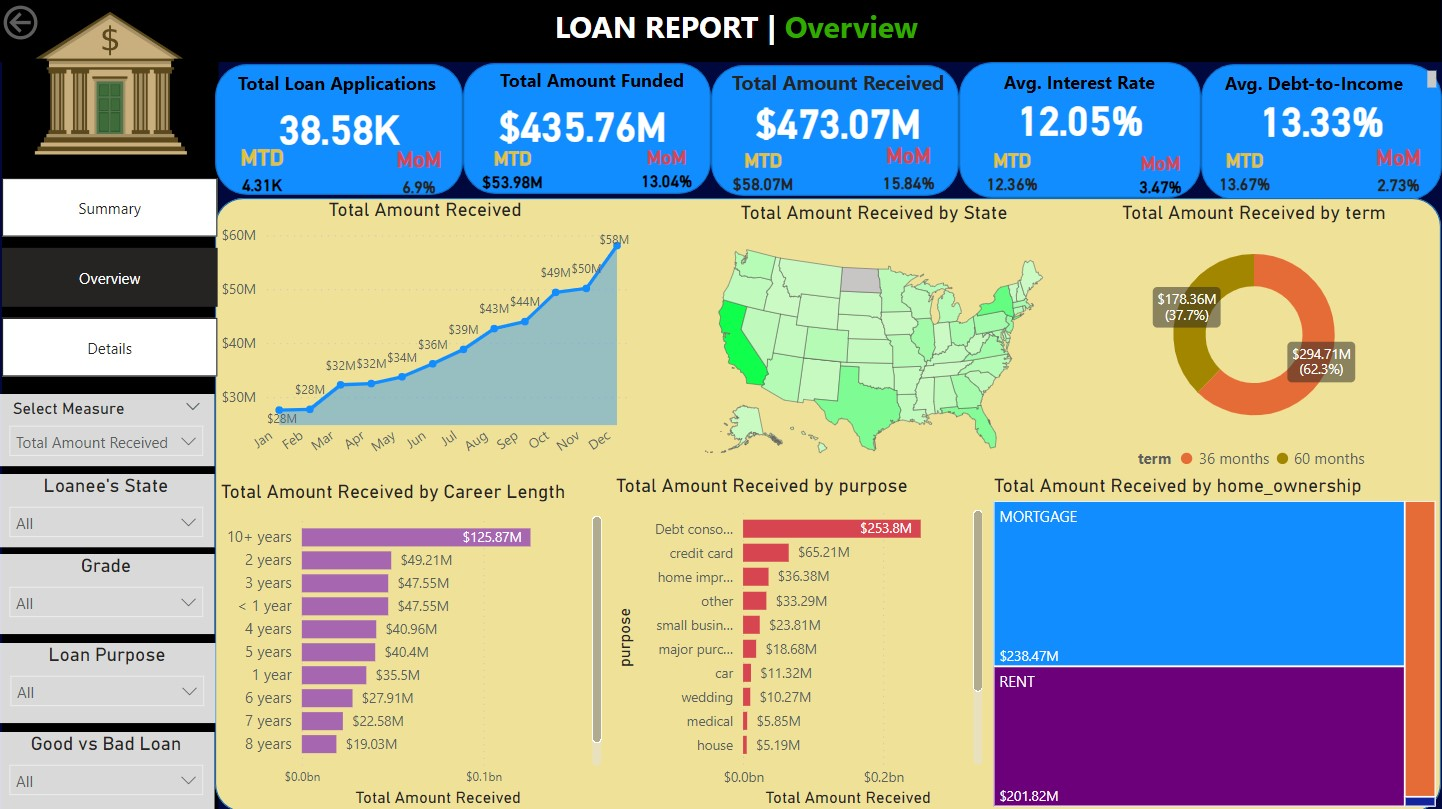

The page's visual inventory and layout, read from the dashboard file:
{"tool":"powerbi","page":{"name":"Overview","canvas":[1280,720],"ordinal":1},"visuals":[{"type":"shape","box":[0,0,1280.4,55],"z":0},{"type":"shape","box":[3.5,55,192.4,665],"z":1000},{"type":"shape","box":[192.4,56.7,219.9,116.2],"z":2000},{"type":"textbox","box":[488.6,0,511.6,65.1],"z":3000},{"type":"card","fields":{"Values":["financial_loan.TotalLoanApplications"]},"box":[198.6,89.6,207.5,45.2],"z":4000},{"type":"textbox","box":[207.5,57.6,222.6,34.6],"z":5000},{"type":"card","title":"MTD","fields":{"Values":["financial_loan.MTD Loan Applications"]},"box":[207.5,128.6,53.2,47],"z":6000},{"type":"card","title":"MoM","fields":{"Values":["financial_loan.MoM Loan Applications"]},"box":[334.3,130.3,78,46.1],"z":7000},{"type":"shape","box":[412.3,55.9,219.9,116.2],"z":8000},{"type":"card","fields":{"Values":["Sum(financial_loan.loan_amount)"]},"box":[396.4,61.2,243.8,96.7],"z":9000},{"type":"textbox","box":[417.6,55,222.6,34.6],"z":10000},{"type":"card","title":"MTD","fields":{"Values":["financial_loan.MTD Funded Amouunt"]},"box":[423.8,130.3,64.7,46.1],"z":11000},{"type":"card","title":"MoM","fields":{"Values":["financial_loan.MoM funded amount"]},"box":[564.8,129.5,55.9,46.1],"z":12000},{"type":"shape","box":[632.2,57.6,219.9,116.2],"z":13000},{"type":"card","title":"Total Amount Received","fields":{"Values":["financial_loan.Total Amount Received"]},"box":[645.5,61.2,198.6,68.3],"z":14000},{"type":"card","title":"MTD","fields":{"Values":["financial_loan.MTD Amount Received"]},"box":[646.4,132.1,63.8,46.1],"z":15000},{"type":"shape","box":[1066.7,56.7,213.7,120.6],"z":16000},{"type":"shape","box":[852.1,55,214.6,120.6],"z":17000},{"type":"card","title":"MoM","fields":{"Values":["financial_loan.MoM Amount Received"]},"box":[776.7,126.8,61.2,46.1],"z":18000},{"type":"card","fields":{"Values":["Avg(financial_loan.int_rate)"]},"box":[837.9,56.7,243,95.8],"z":19000},{"type":"textbox","box":[847.7,56.7,222.6,34.6],"z":20000},{"type":"card","title":"MTD","fields":{"Values":["financial_loan.MTD Avg Interest"]},"box":[869,132.1,60.3,46.1],"z":21000},{"type":"card","title":"MoM","fields":{"Values":["financial_loan.MoM Avg rate of interest"]},"box":[1000.2,134.8,61.2,46.1],"z":22000},{"type":"card","fields":{"Values":["Avg(financial_loan.dti)"]},"box":[1077.3,57.6,192.4,94.9],"z":23000},{"type":"textbox","box":[1061.4,57.6,219,34.6],"z":24000},{"type":"card","title":"MTD","fields":{"Values":["financial_loan.MTD debt-income ratio"]},"box":[1077.3,132.1,55.9,46.1],"z":25000},{"type":"card","title":"MoM","fields":{"Values":["financial_loan.MoM debt-income ratio"]},"box":[1213.9,128.6,55.9,46.1],"z":26000},{"type":"shape","box":[192.4,175.6,1087.1,544.4],"z":27000},{"type":"actionButton","box":[0,0,100,40],"z":28000},{"type":"slicer","title":"Grade","fields":{"Values":["financial_loan.grade"]},"box":[0,491.2,191.5,70.9],"z":29000},{"type":"slicer","title":"Loanee''s State","fields":{"Values":["financial_loan.address_state"]},"box":[0,420.3,191.5,64.7],"z":30000},{"type":"slicer","title":"Loan Purpose","fields":{"Values":["financial_loan.purpose"]},"box":[0.9,570.1,191.5,70.9],"z":31000},{"type":"slicer","title":"Good vs Bad Loan","fields":{"Values":["financial_loan.LoanType"]},"box":[0,649.1,191.5,70.9],"z":32000},{"type":"areaChart","fields":{"Y":["financial_loan.Total Amount Received"],"Category":["Date.Month"]},"box":[192.4,175.6,372.4,247.4],"z":33000},{"type":"slicer","fields":{"Values":["Select Measure.Select Measure"]},"box":[0,349.4,191.5,63.8],"z":34000},{"type":"shapeMap","fields":{"Value":["financial_loan.Total Amount Received"],"Category":["financial_loan.address_state"]},"box":[605.6,178.2,342.3,247.4],"z":35000},{"type":"donutChart","fields":{"Y":["financial_loan.Total Amount Received"],"Series":["financial_loan.term"]},"box":[947.9,178.2,331.6,247.4],"z":36000},{"type":"barChart","fields":{"Y":["financial_loan.Total Amount Received"],"Category":["financial_loan.emp_length"]},"box":[192.4,425.6,347.6,294.4],"z":37000},{"type":"barChart","fields":{"Y":["financial_loan.Total Amount Received"],"Category":["financial_loan.purpose"]},"box":[542.7,420.3,335.2,299.7],"z":38000},{"type":"treemap","fields":{"Values":["financial_loan.Total Amount Received"],"Details":["financial_loan.home_ownership"]},"box":[877.8,420.3,401.7,299.7],"z":39000},{"type":"image","box":[27.5,0,144.5,146.3],"z":40000},{"type":"pageNavigator","box":[3.5,157.8,191.5,177.3],"z":41000}]}

Visuals, with their boxes in screenshot pixels (x1, y1, x2, y2), scaled from the page's 1280x720 canvas onto the 1442x809 screenshot:
shape: rect(0, 0, 1441, 62)
shape: rect(4, 62, 221, 808)
shape: rect(217, 64, 464, 194)
textbox: rect(550, 0, 1127, 73)
card - financial_loan.TotalLoanApplications: rect(224, 101, 457, 151)
textbox: rect(234, 65, 485, 104)
"MTD" card: rect(234, 144, 294, 197)
"MoM" card: rect(377, 146, 464, 198)
shape: rect(464, 63, 712, 193)
card - Sum(financial_loan.loan_amount): rect(447, 69, 721, 177)
textbox: rect(470, 62, 721, 101)
"MTD" card: rect(477, 146, 550, 198)
"MoM" card: rect(636, 146, 699, 197)
shape: rect(712, 65, 960, 195)
"Total Amount Received" card: rect(727, 69, 951, 146)
"MTD" card: rect(728, 148, 800, 200)
shape: rect(1202, 64, 1441, 199)
shape: rect(960, 62, 1202, 197)
"MoM" card: rect(875, 142, 944, 194)
card - Avg(financial_loan.int_rate): rect(944, 64, 1218, 171)
textbox: rect(955, 64, 1206, 103)
"MTD" card: rect(979, 148, 1047, 200)
"MoM" card: rect(1127, 151, 1196, 203)
card - Avg(financial_loan.dti): rect(1214, 65, 1430, 171)
textbox: rect(1196, 65, 1441, 104)
"MTD" card: rect(1214, 148, 1277, 200)
"MoM" card: rect(1368, 144, 1431, 196)
shape: rect(217, 197, 1441, 808)
actionButton: rect(0, 0, 113, 45)
"Grade" slicer: rect(0, 552, 216, 632)
"Loanee''s State" slicer: rect(0, 472, 216, 545)
"Loan Purpose" slicer: rect(1, 641, 217, 720)
"Good vs Bad Loan" slicer: rect(0, 729, 216, 808)
areaChart - financial_loan.Total Amount Received x Date.Month: rect(217, 197, 636, 475)
slicer - Select Measure.Select Measure: rect(0, 393, 216, 464)
shapeMap - financial_loan.Total Amount Received x financial_loan.address_state: rect(682, 200, 1068, 478)
donutChart - financial_loan.Total Amount Received x financial_loan.term: rect(1068, 200, 1441, 478)
barChart - financial_loan.Total Amount Received x financial_loan.emp_length: rect(217, 478, 608, 808)
barChart - financial_loan.Total Amount Received x financial_loan.purpose: rect(611, 472, 989, 808)
treemap - financial_loan.Total Amount Received x financial_loan.home_ownership: rect(989, 472, 1441, 808)
image: rect(31, 0, 194, 164)
pageNavigator: rect(4, 177, 220, 377)
